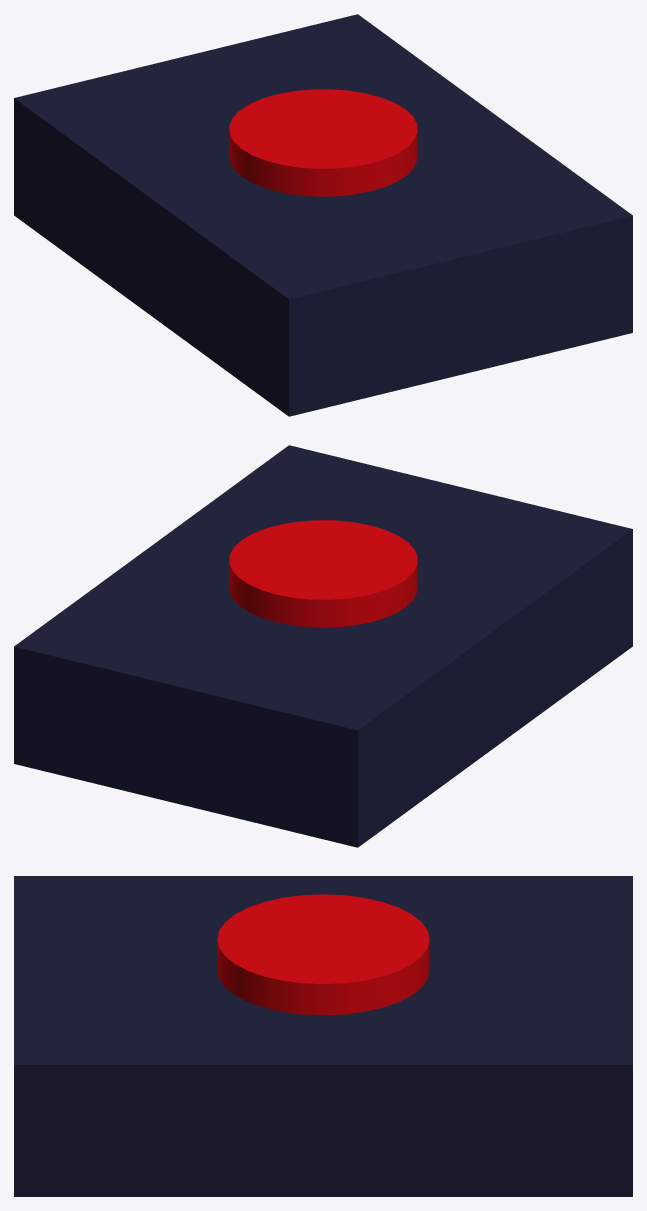
File: button.fbx
The picture shows the model from 3 angles, top to bottom: view 1: azimuth 30°, elevation 25°; view 2: azimuth 150°, elevation 25°; view 3: azimuth 270°, elevation 25°; orthographic projection. The views are drawn at different scales.
Visible parts, largest first — view 1: Cube, Cylinder; view 2: Cube, Cylinder; view 3: Cube, Cylinder.
Part boxes in pixels (x1,y1,x2,y2): Cube: [14, 14, 632, 416]; Cylinder: [229, 89, 417, 196]; Cube: [14, 445, 632, 847]; Cylinder: [229, 520, 417, 627]; Cube: [14, 876, 632, 1196]; Cylinder: [217, 894, 429, 1015].
Size of the model in its own units: 314 by 127 by 435.
